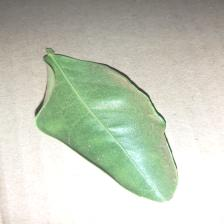greening: (32, 46, 184, 204)
